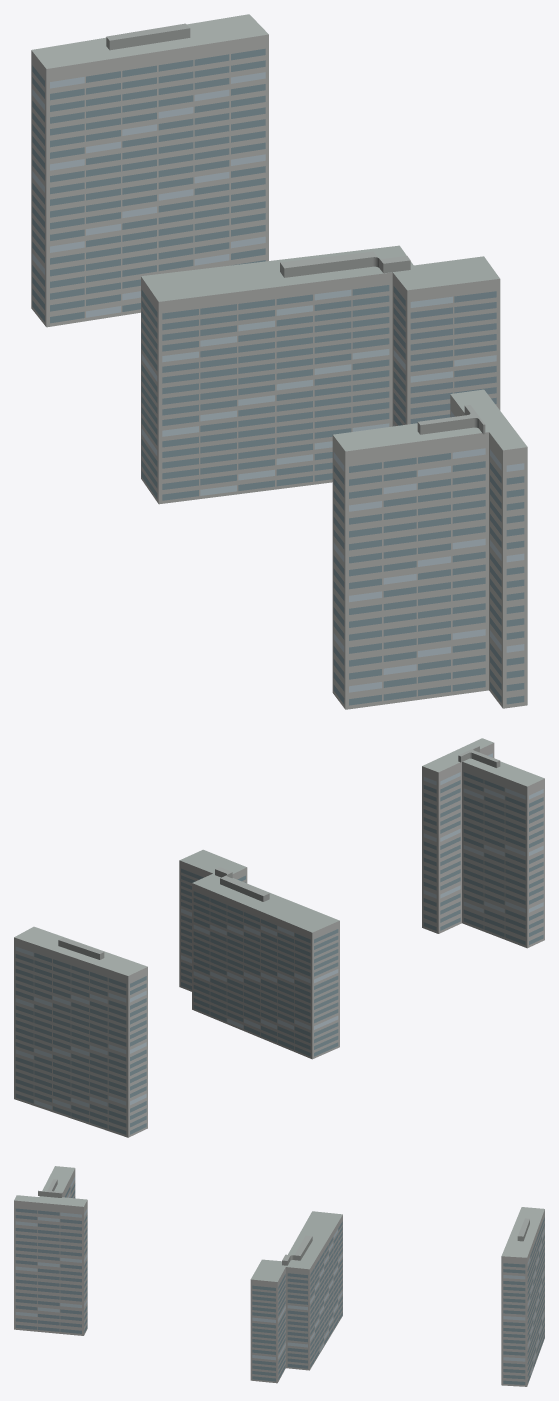
The model's file is apt-a15209205.glb.
3 views of the same model, one above another, from view 1: azimuth 30°, elevation 25°; view 2: azimuth 150°, elevation 25°; view 3: azimuth 270°, elevation 25° (orthographic). The views are drawn at different scales.
Parts seen in each view (by area): view 1: apt-a15209205; view 2: apt-a15209205; view 3: apt-a15209205.
Part boxes in pixels (x1,y1,x2,y2): apt-a15209205: (31, 14, 527, 709); apt-a15209205: (14, 738, 544, 1137); apt-a15209205: (14, 1166, 544, 1386).
Size of the model in its own units: 98.41 by 67 by 241.
